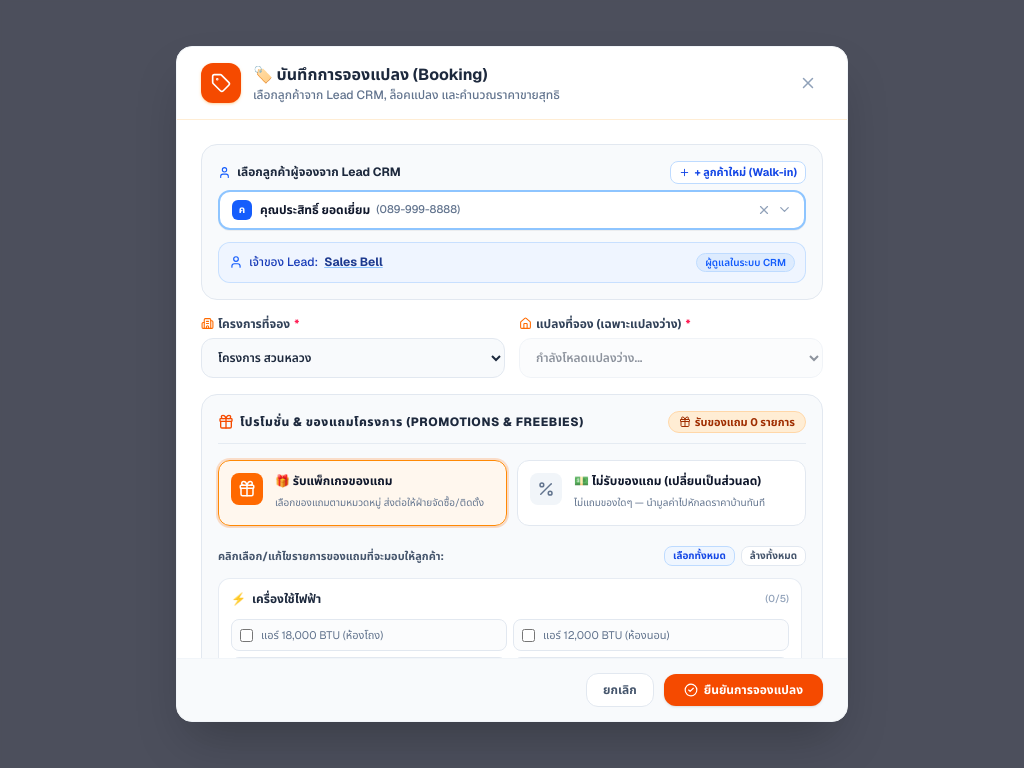
CentralLeadBookingModal › validates plot selection before booking
Click the button "ยืนยันการจองแปลง".
click(743, 690)  # box [664, 674, 823, 706]
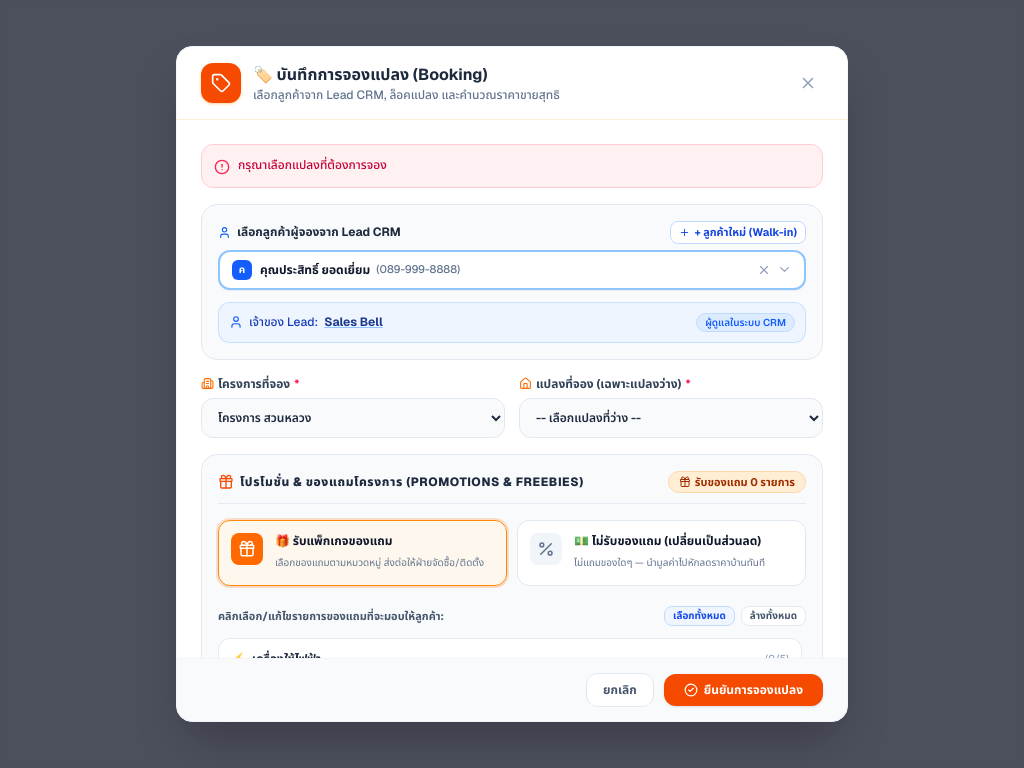
Expected: the text "กรุณาเลือกแปลงที่ต้องการจอง" is shown, [238, 157, 387, 173]
